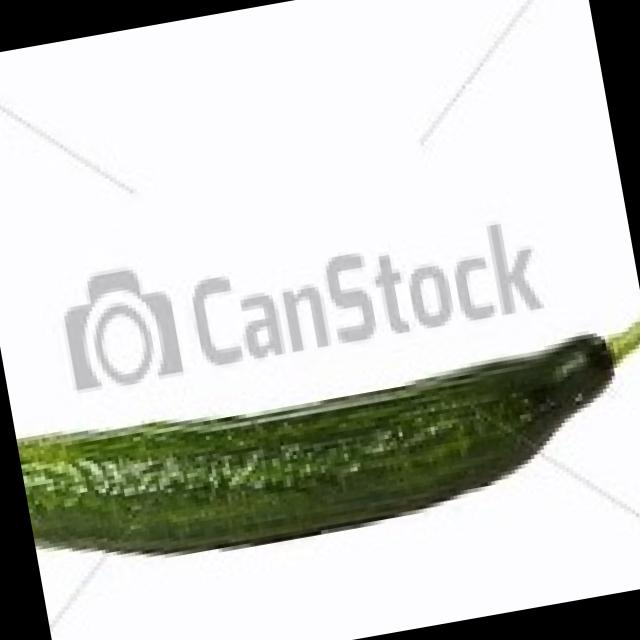cucumber: (15, 327, 630, 583)
